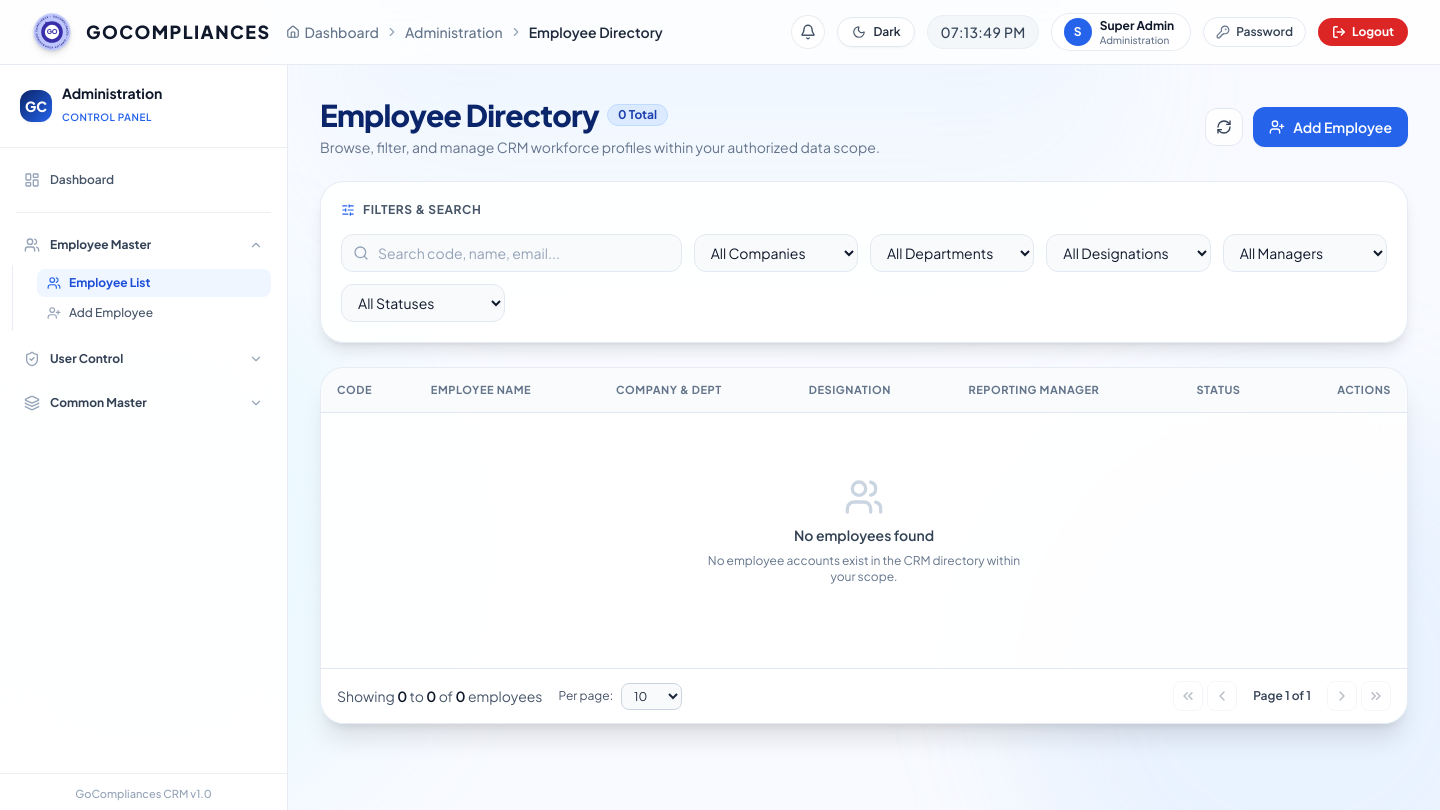
Test: Admin Module Layout & Collapsible Sidebar Routing › parent menu toggles expand and collapse state on click
The image size is (1440, 810).
Note: Click to collapse
Click the button "Employee Master" at (144, 244), box [12, 228, 275, 260]
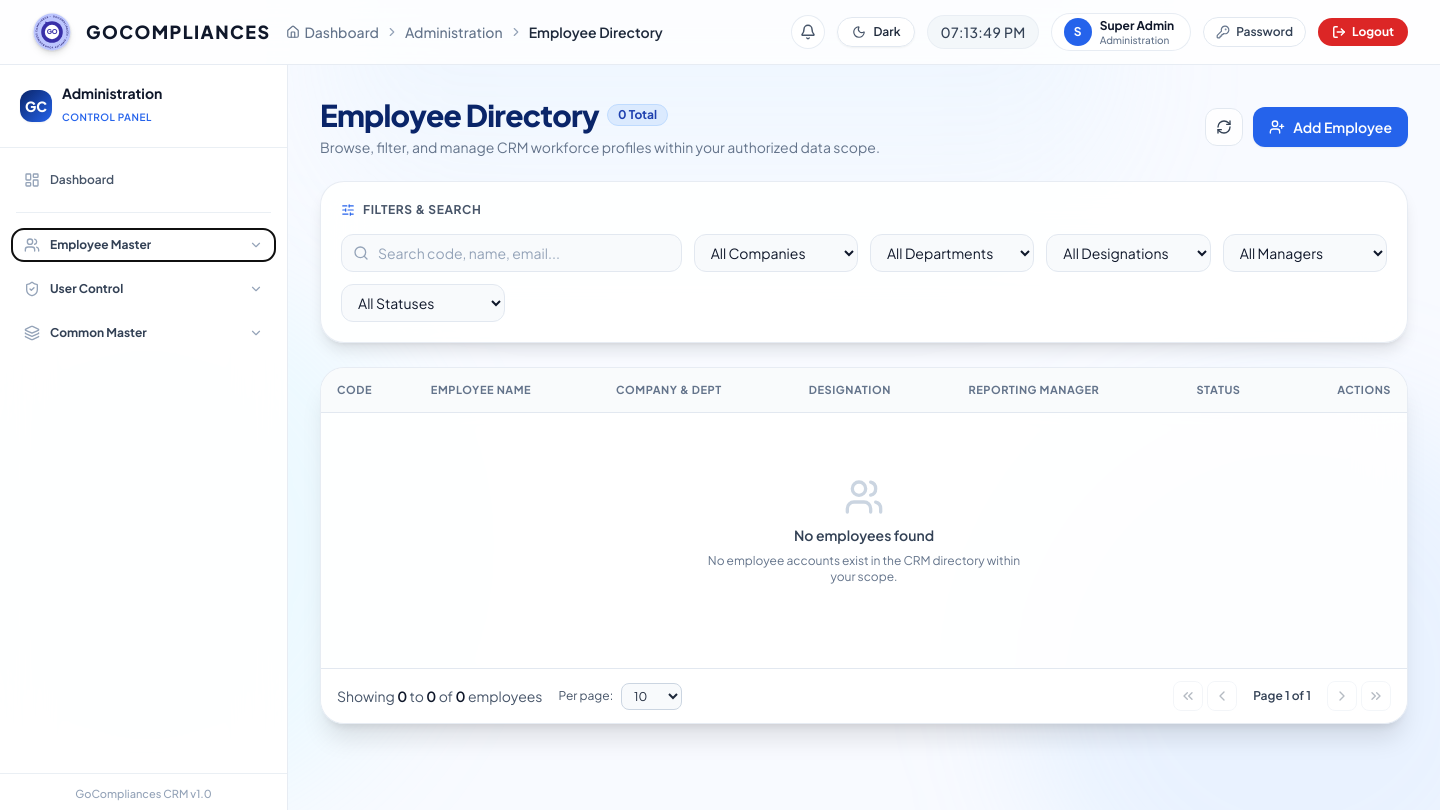
Expected: the button "Employee Master" is collapsed
Expected: the link "Employee List" is gone
Note: Click to expand again
Click the button "Employee Master" at (144, 244), box [12, 228, 275, 260]
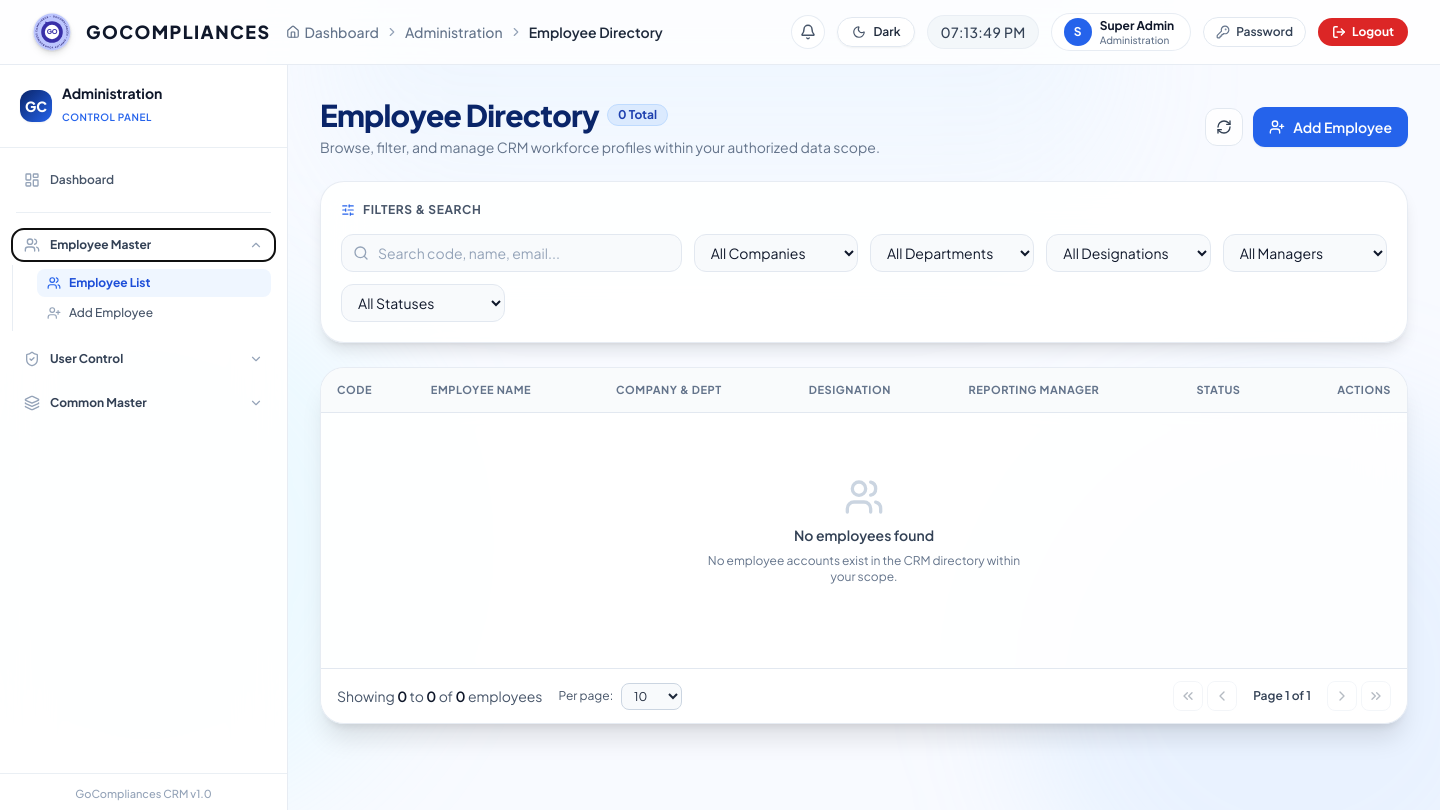
Expected: the link "Employee List" is shown, [37, 268, 271, 296]
